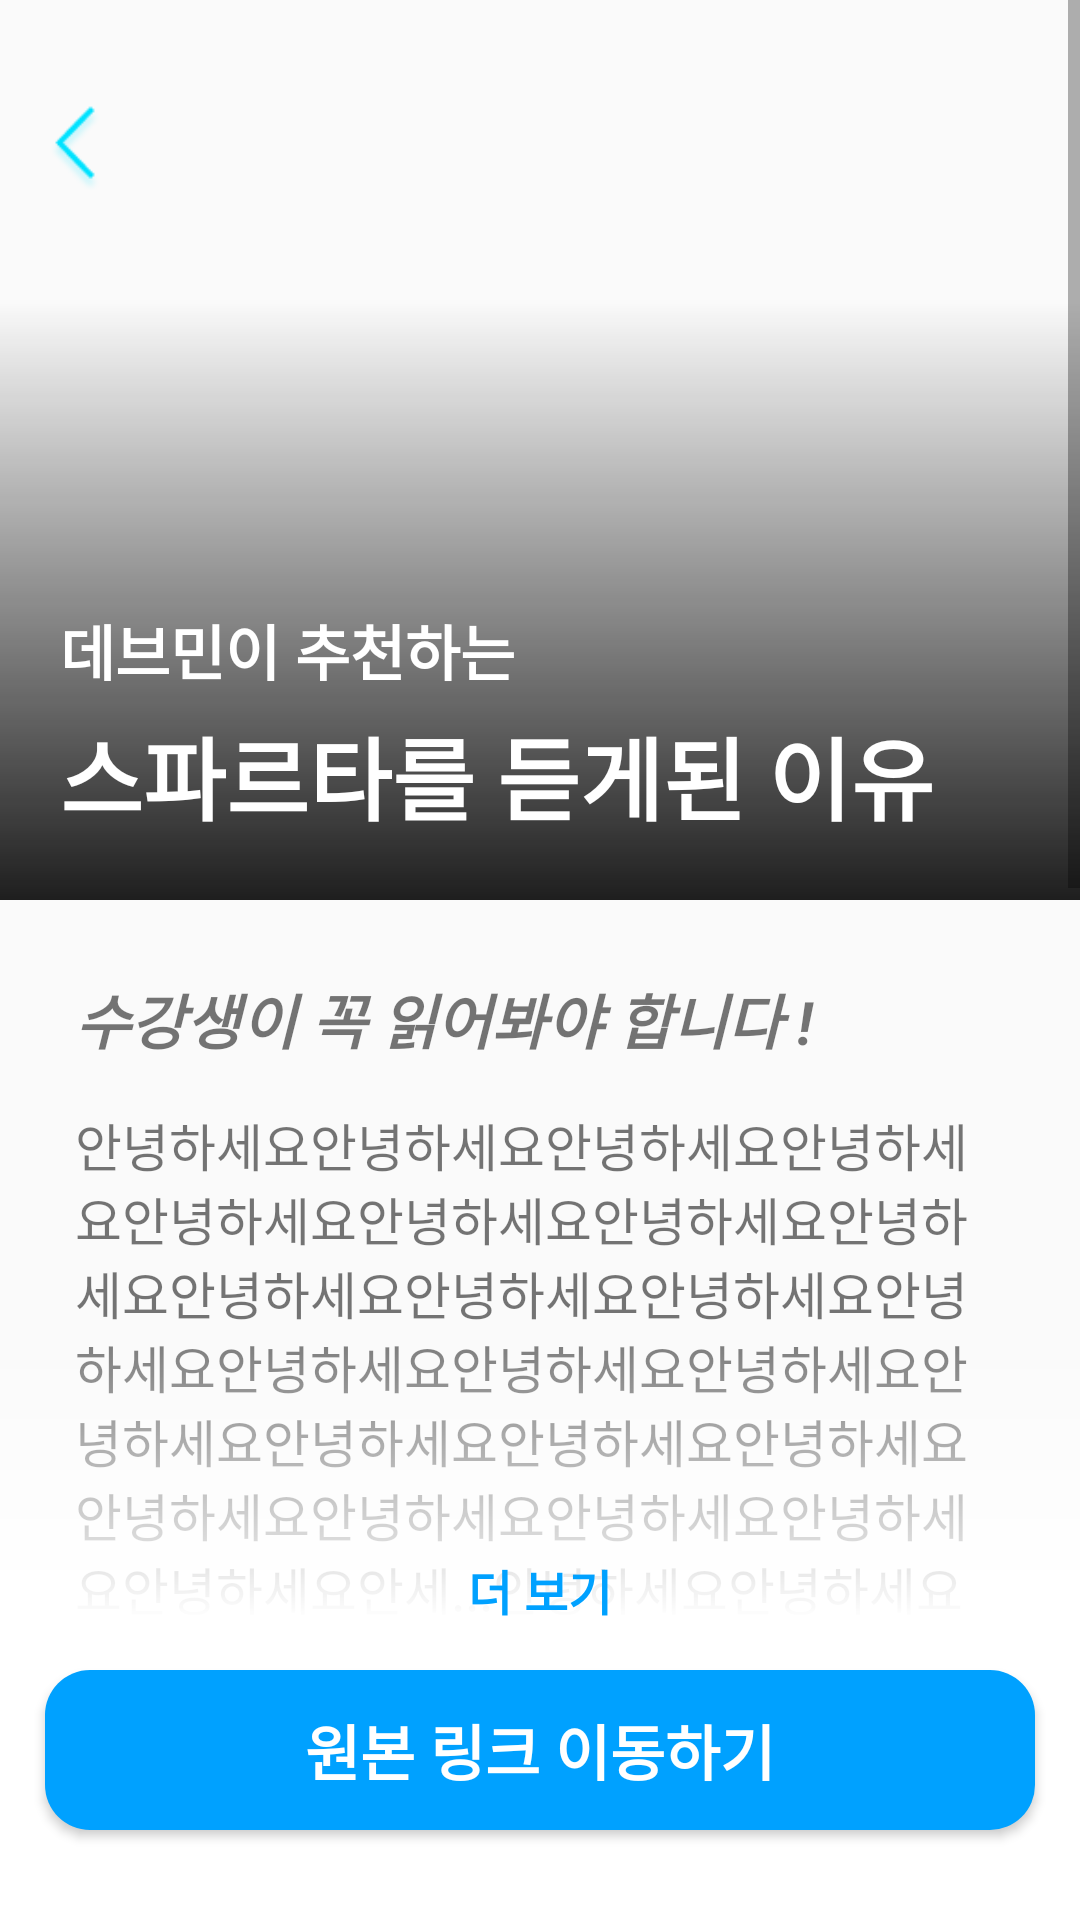

Named icons in this screenshot (1080*1920) and their centers, point (x, y):
back: point (75, 145)
